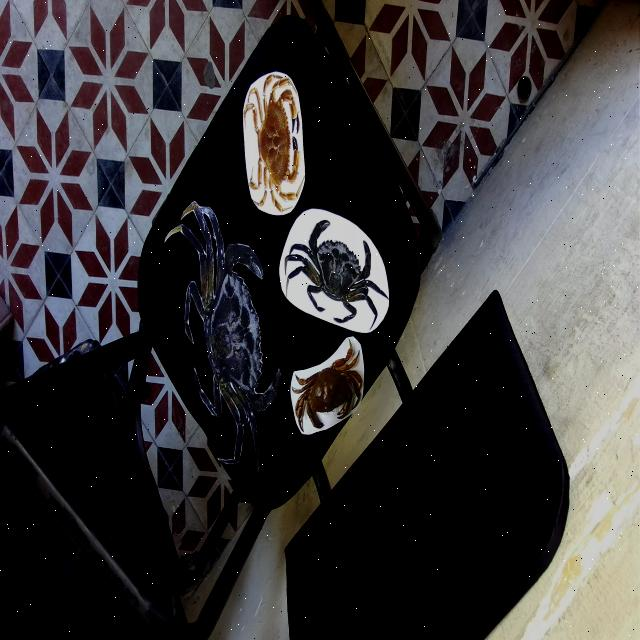European_Green_Crab: (160, 169, 301, 501), (279, 204, 396, 345)
